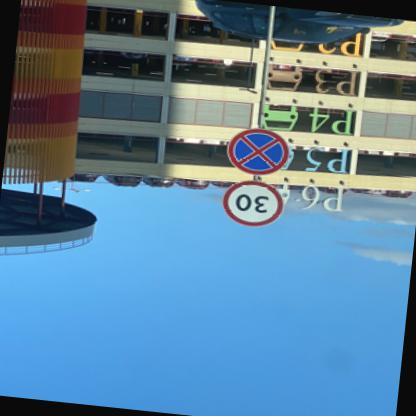speedlimit: (222, 180, 287, 230)
